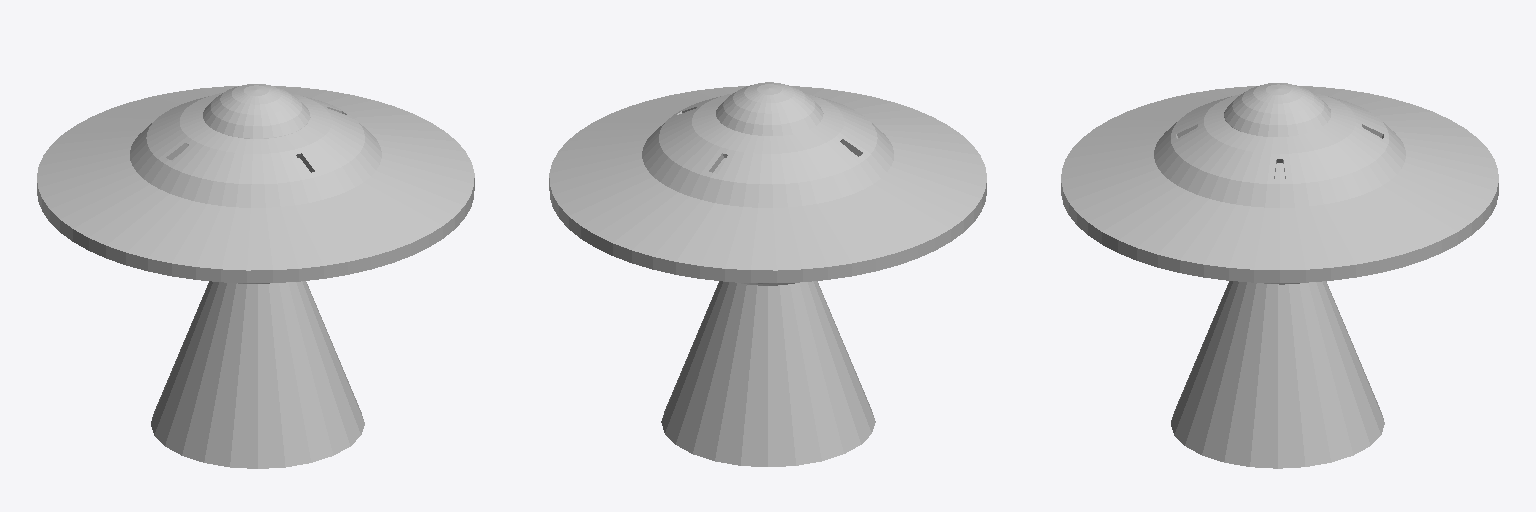
The model's file is speedy.obj.
3 views of the same model, side by side, from view 1: azimuth 30°, elevation 25°; view 2: azimuth 150°, elevation 25°; view 3: azimuth 270°, elevation 25° (orthographic).
Visible parts, largest first — view 1: Cylinder001; view 2: Cylinder001; view 3: Cylinder001.
Part boxes in pixels (left/top/right/bottom): Cylinder001: left=37, top=84, right=474, bottom=468; Cylinder001: left=549, top=82, right=986, bottom=466; Cylinder001: left=1061, top=83, right=1498, bottom=468.
Bounding box in the file's own units: 57.24 × 48.23 × 57.27.